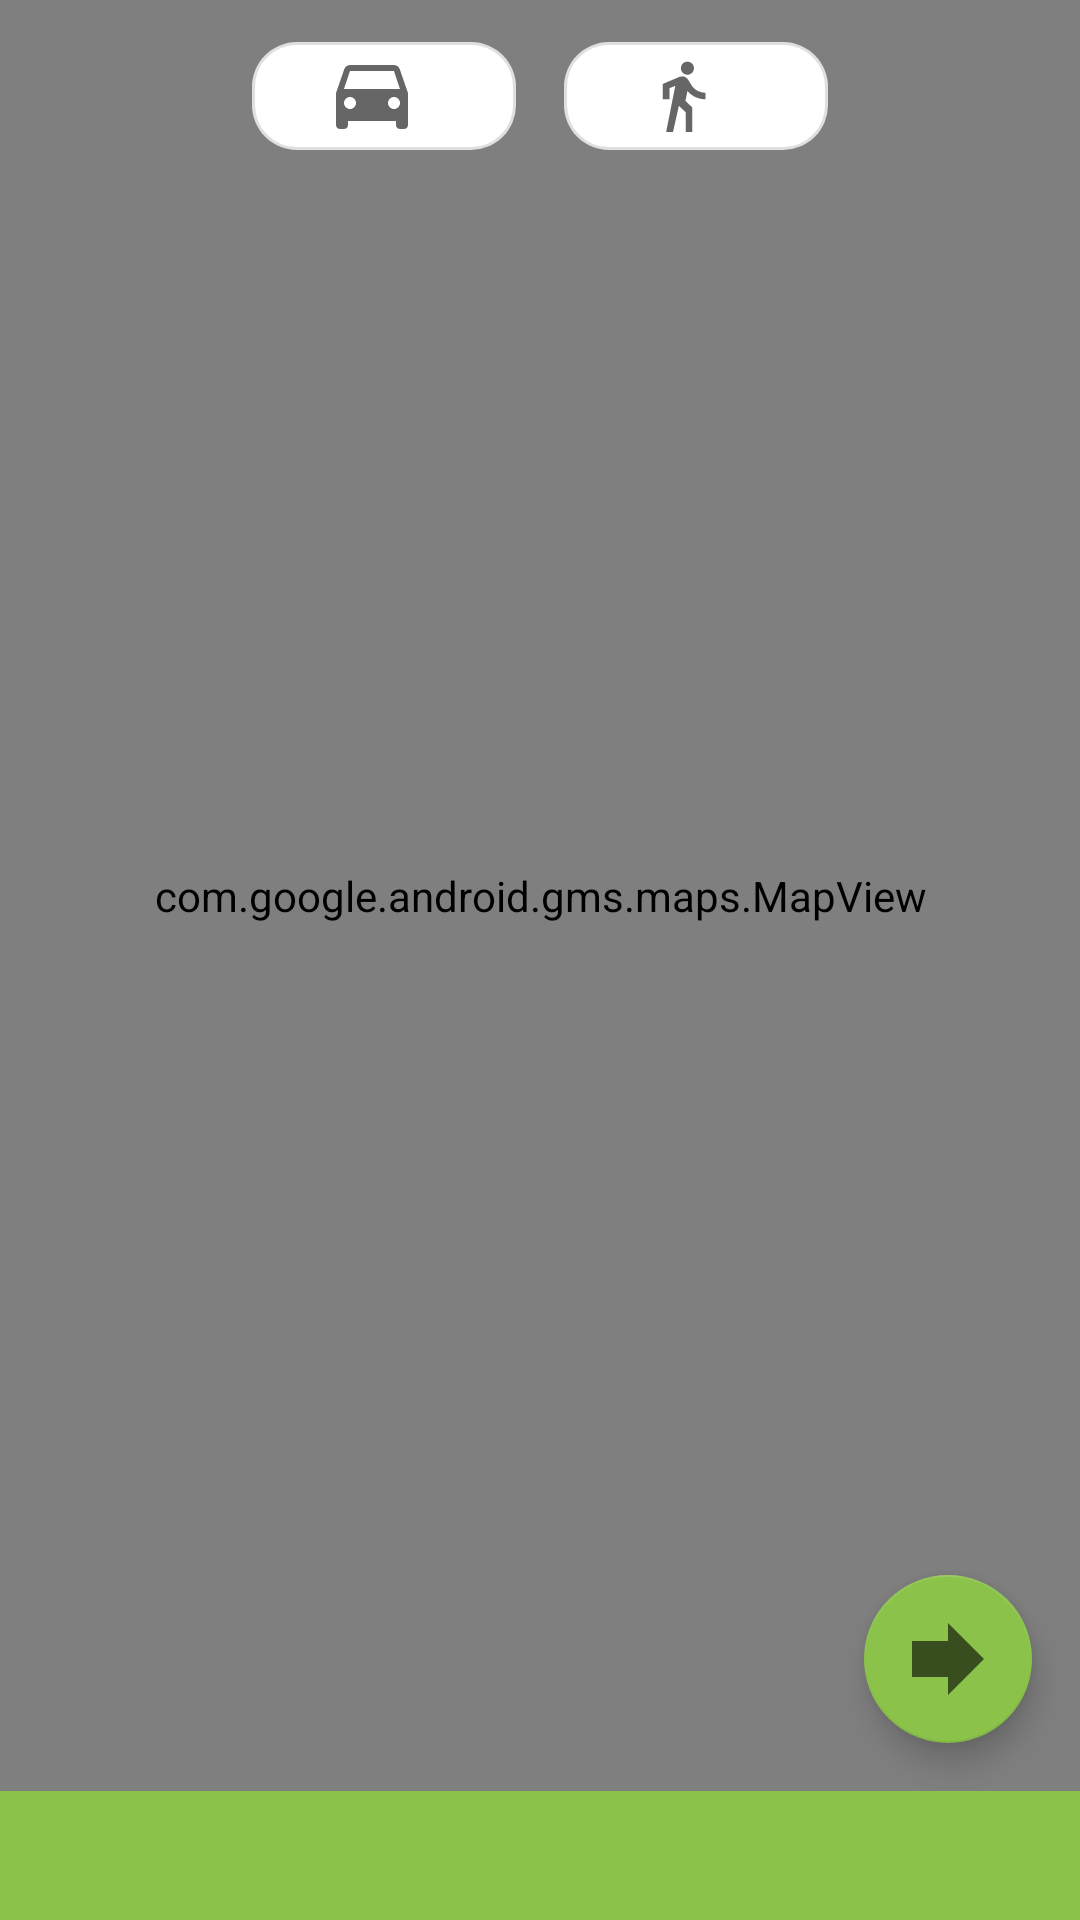

Screen size 1080px x 1920px. Icon name, then its center in pixels as (x=x, y=y):
car: (x=384, y=96)
start: (x=948, y=1659)
walking: (x=696, y=96)
